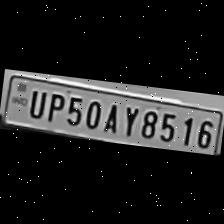0: (80, 96, 104, 130)
1: (176, 113, 196, 147)
5: (155, 108, 178, 144), (61, 92, 84, 126)
6: (192, 116, 214, 149)
8: (136, 106, 160, 140)
A: (100, 99, 122, 136)
P: (42, 89, 65, 123)
U: (23, 86, 46, 119)
Y: (118, 102, 140, 138)
